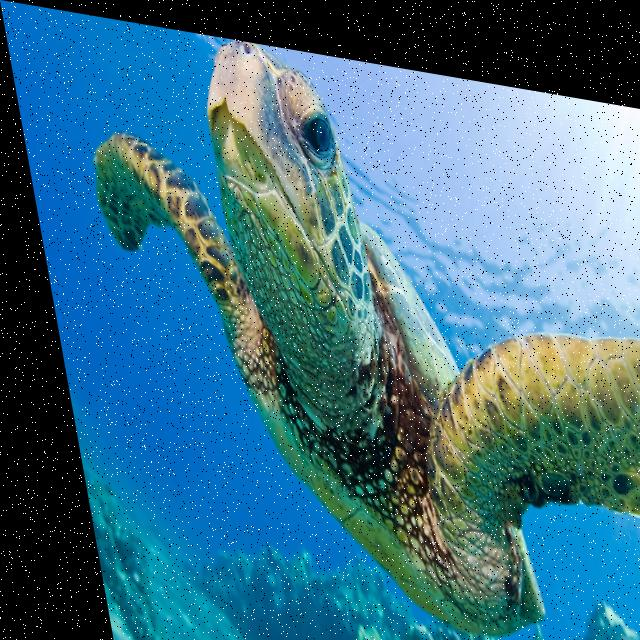sea turtle: (167, 183, 571, 640), (174, 23, 403, 430), (26, 50, 257, 354), (386, 287, 640, 537)
